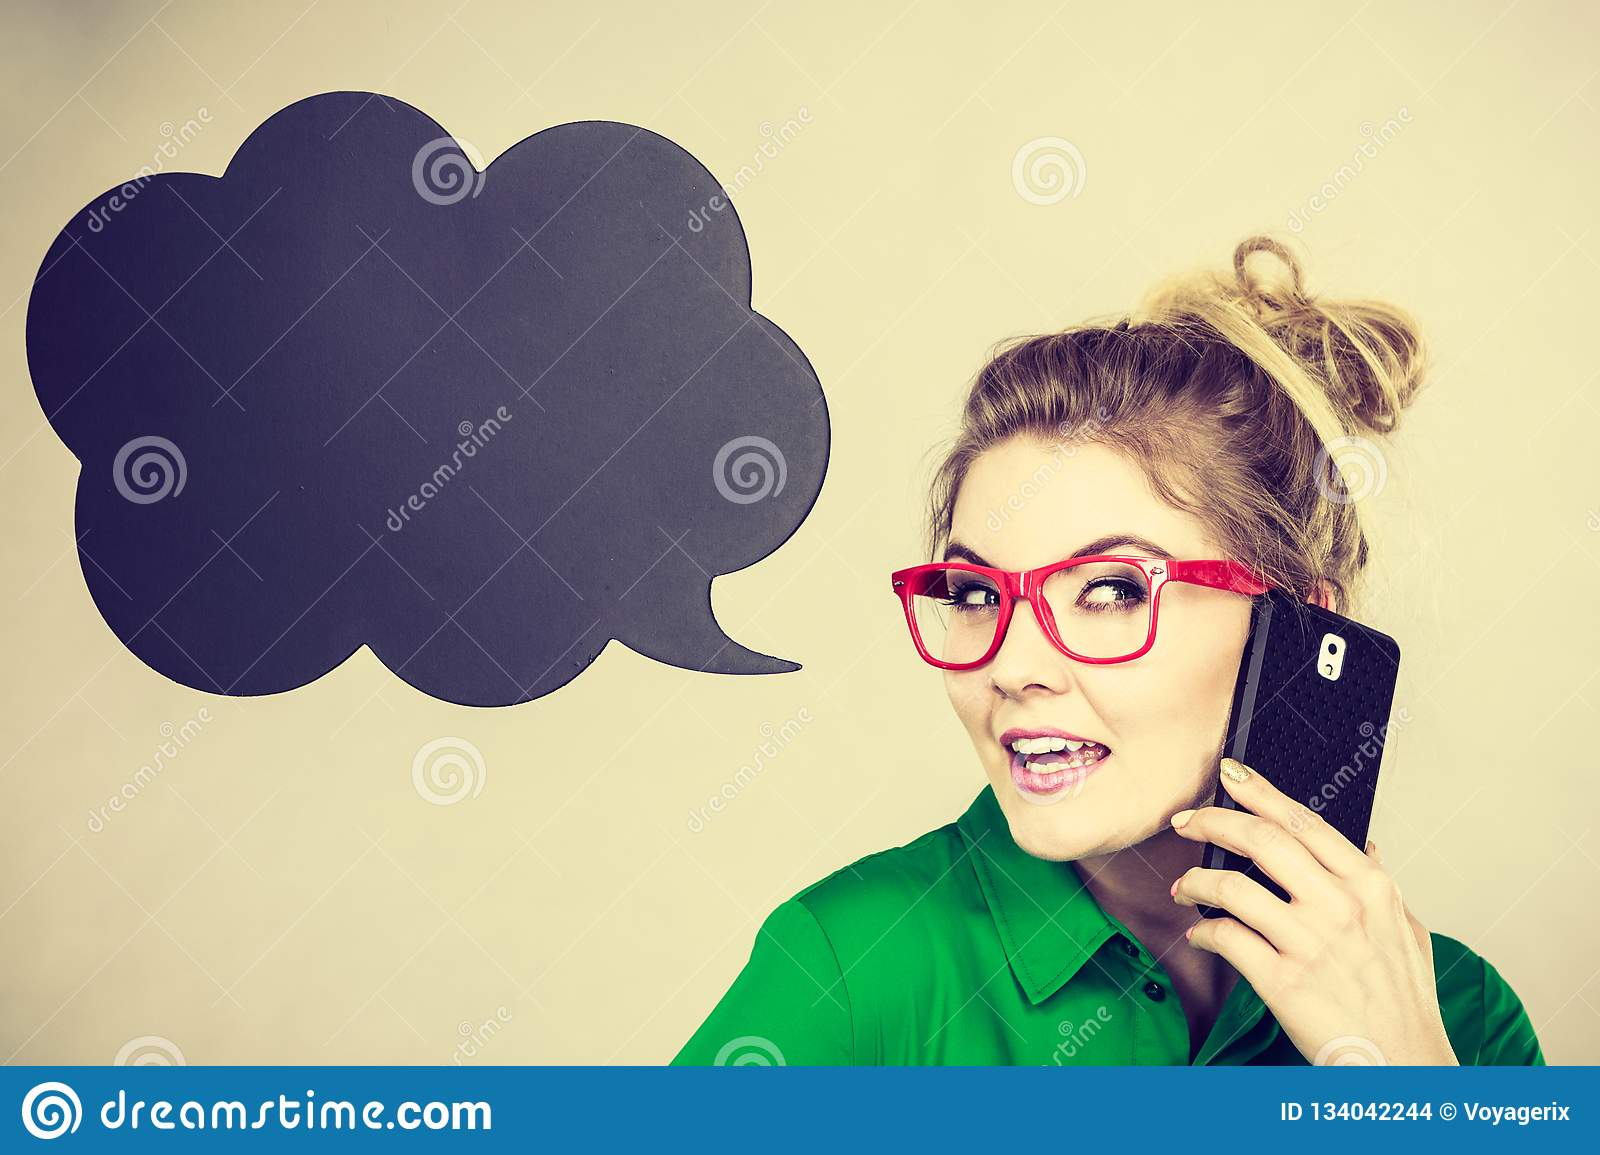phone: (1191, 596, 1402, 935)
talk: (942, 527, 1465, 1066)
